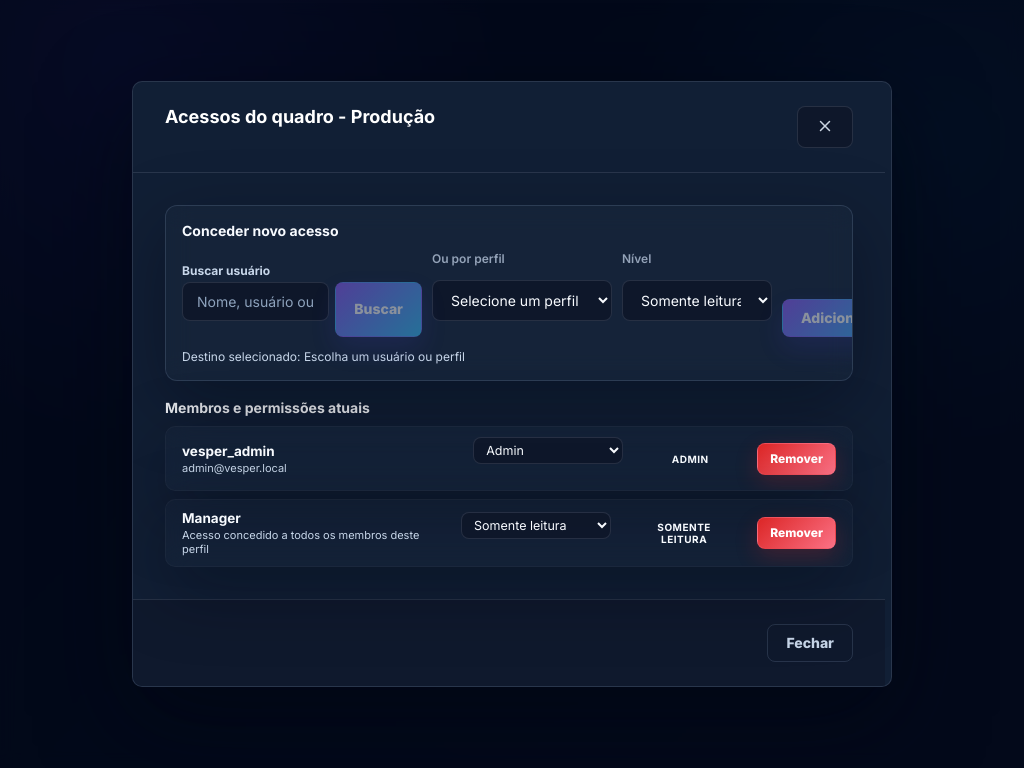
busca usuário para novo acesso
This screenshot has width=1024, height=768.
Type "maycon" into the field named "buscar usuário" at [256, 302], box top-left (182, 282), bottom-right (329, 321)
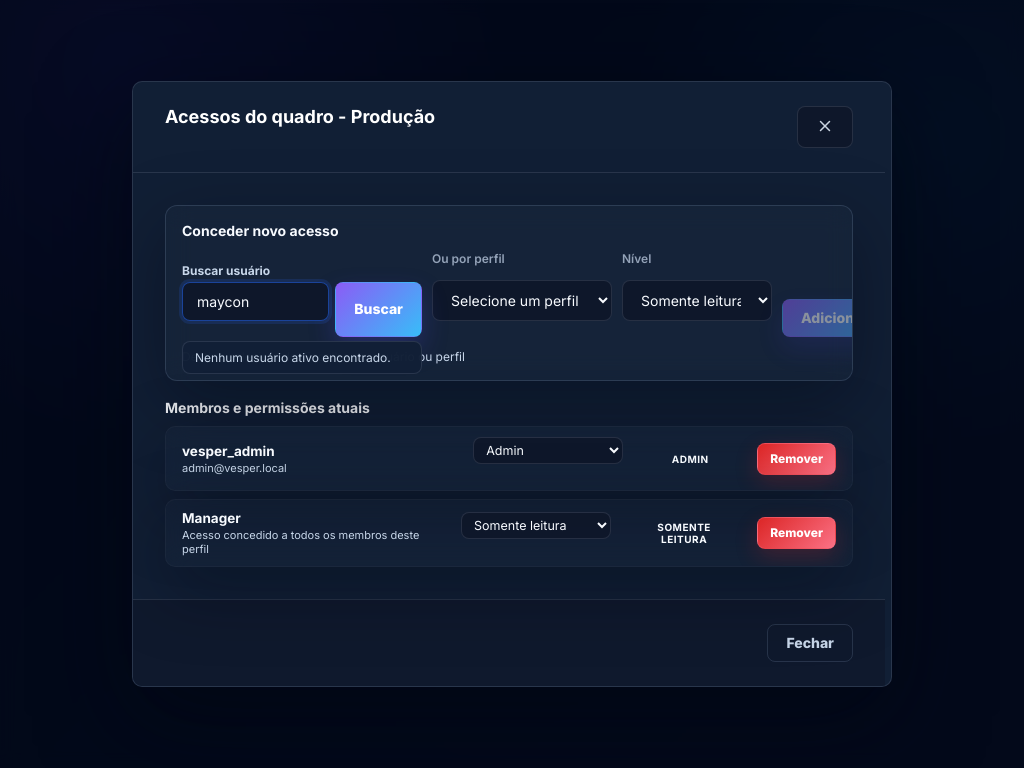
Click the button "Buscar" at [379, 310], box top-left (335, 282), bottom-right (422, 337)
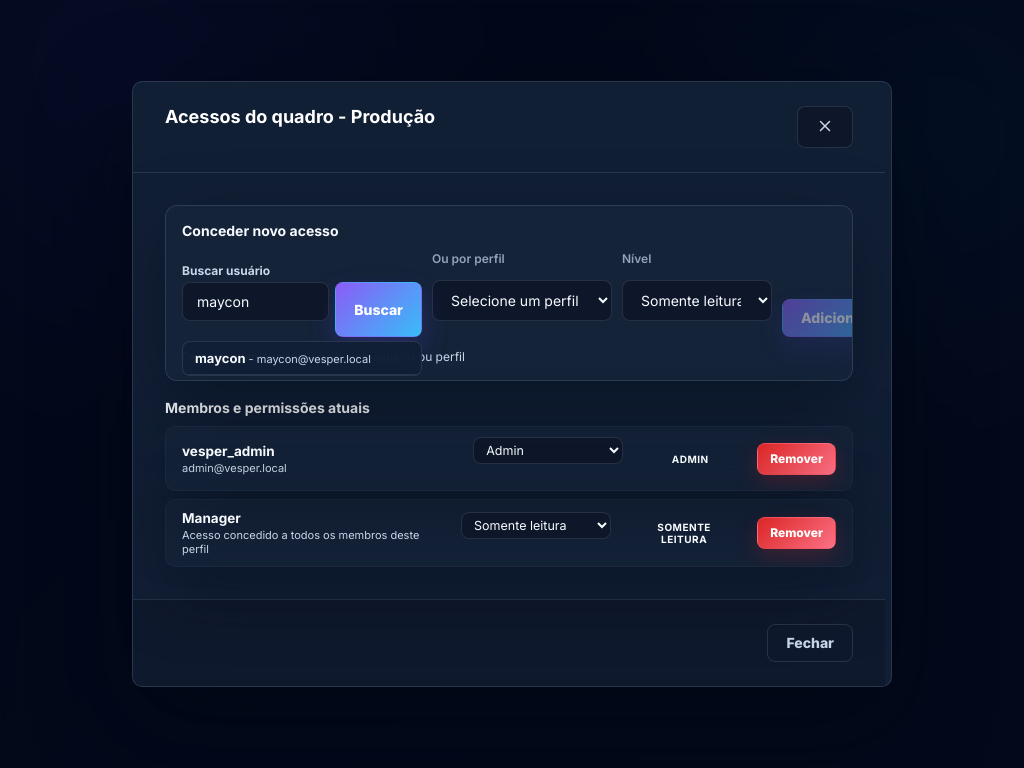
Result: the text "maycon" is shown at top-left (195, 350), bottom-right (246, 366)
